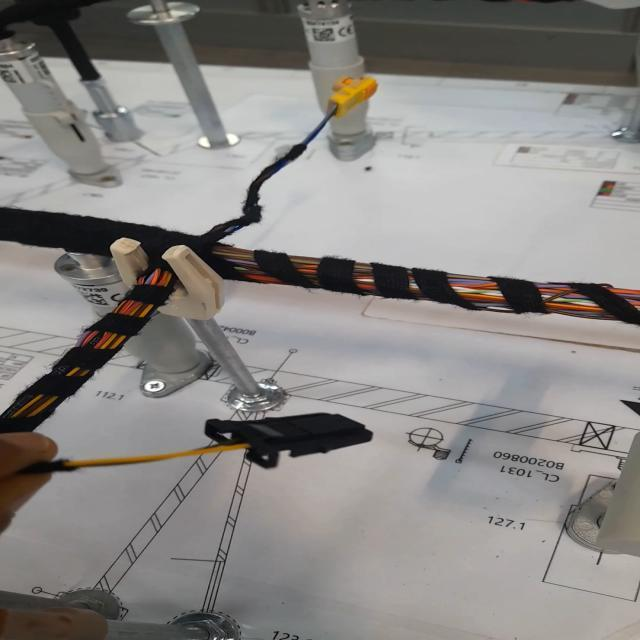connector: (203, 400, 376, 478)
